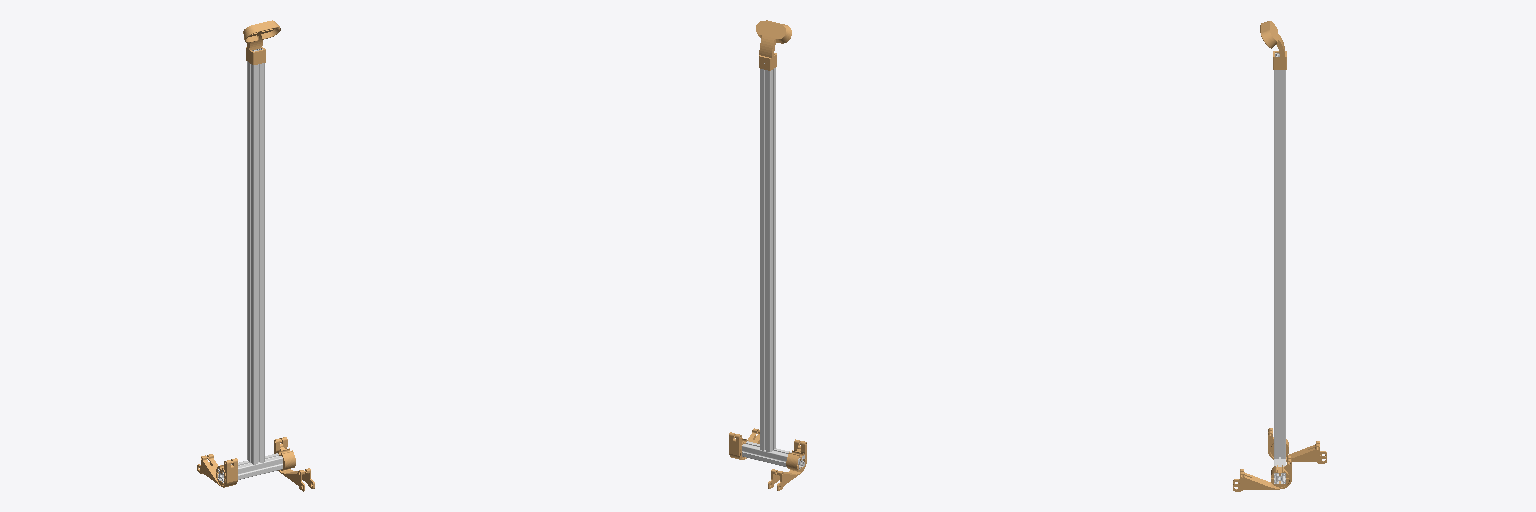
URDF robot description (bracketbot_v1_rev1):
<?xml version="1.0" ?>
<!-- Generated using onshape-to-robot -->
<!-- Onshape https://cad.onshape.com/documents/6e82ea959690d515a75aa9d5/w/3a22479ac51efe2ee6ec6cbf/e/449bb5f768d8a2b07e32509f -->
<robot name="bracketbot_v1_rev1">
  <!-- Link base_extrusion -->
  <link name="base_extrusion">
    <inertial>
      <origin xyz="5.0398e-16 0.01055 0.56913" rpy="0 0 0"/>
      <mass value="3.3473"/>
      <inertia ixx="0.73427" ixy="0.000803896" ixz="-2.92746e-16" iyy="0.739173" iyz="3.94633e-17" izz="0.00819634"/>
    </inertial>
    <!-- Part newsimplerhead -->
    <visual>
      <origin xyz="0 0.01055 0.02" rpy="1.98359e-16 1.98523e-23 6.31581e-23"/>
      <geometry>
        <mesh filename="package://assets/newsimplerhead.stl"/>
      </geometry>
      <material name="newsimplerhead_material">
        <color rgba="0.917647 0.72549 0.490196 1"/>
      </material>
    </visual>
    <collision>
      <origin xyz="0 0.01055 0.02" rpy="1.98359e-16 1.98523e-23 6.31581e-23"/>
      <geometry>
        <mesh filename="package://assets/newsimplerhead.stl"/>
      </geometry>
    </collision>
    <!-- Part base_extrusion -->
    <visual>
      <origin xyz="0 0.01055 0.02" rpy="1.98359e-16 1.98523e-23 6.31581e-23"/>
      <geometry>
        <mesh filename="package://assets/base_extrusion.stl"/>
      </geometry>
      <material name="base_extrusion_material">
        <color rgba="0.917647 0.917647 0.917647 1"/>
      </material>
    </visual>
    <collision>
      <origin xyz="0 0.01055 0.02" rpy="1.98359e-16 1.98523e-23 6.31581e-23"/>
      <geometry>
        <mesh filename="package://assets/base_extrusion.stl"/>
      </geometry>
    </collision>
    <!-- Part vert_extrusion_1 -->
    <visual>
      <origin xyz="0 0.01055 0.02" rpy="1.98359e-16 1.98523e-23 6.31581e-23"/>
      <geometry>
        <mesh filename="package://assets/vert_extrusion_1.stl"/>
      </geometry>
      <material name="vert_extrusion_1_material">
        <color rgba="0.917647 0.917647 0.917647 1"/>
      </material>
    </visual>
    <collision>
      <origin xyz="0 0.01055 0.02" rpy="1.98359e-16 1.98523e-23 6.31581e-23"/>
      <geometry>
        <mesh filename="package://assets/vert_extrusion_1.stl"/>
      </geometry>
    </collision>
    <!-- Part vert_extrusion_3 -->
    <visual>
      <origin xyz="0 0.01055 0.02" rpy="1.98359e-16 1.98523e-23 6.31581e-23"/>
      <geometry>
        <mesh filename="package://assets/vert_extrusion_3.stl"/>
      </geometry>
      <material name="vert_extrusion_3_material">
        <color rgba="0.917647 0.917647 0.917647 1"/>
      </material>
    </visual>
    <collision>
      <origin xyz="0 0.01055 0.02" rpy="1.98359e-16 1.98523e-23 6.31581e-23"/>
      <geometry>
        <mesh filename="package://assets/vert_extrusion_3.stl"/>
      </geometry>
    </collision>
    <!-- Part combined_wheelmount -->
    <visual>
      <origin xyz="0 0.01055 0.02" rpy="1.98359e-16 1.98523e-23 6.31581e-23"/>
      <geometry>
        <mesh filename="package://assets/combined_wheelmount.stl"/>
      </geometry>
      <material name="combined_wheelmount_material">
        <color rgba="0.917647 0.72549 0.490196 1"/>
      </material>
    </visual>
    <collision>
      <origin xyz="0 0.01055 0.02" rpy="1.98359e-16 1.98523e-23 6.31581e-23"/>
      <geometry>
        <mesh filename="package://assets/combined_wheelmount.stl"/>
      </geometry>
    </collision>
    <!-- Part vert_extrusion_4 -->
    <visual>
      <origin xyz="0 0.01055 0.02" rpy="1.98359e-16 1.98523e-23 6.31581e-23"/>
      <geometry>
        <mesh filename="package://assets/vert_extrusion_4.stl"/>
      </geometry>
      <material name="vert_extrusion_4_material">
        <color rgba="0.917647 0.917647 0.917647 1"/>
      </material>
    </visual>
    <collision>
      <origin xyz="0 0.01055 0.02" rpy="1.98359e-16 1.98523e-23 6.31581e-23"/>
      <geometry>
        <mesh filename="package://assets/vert_extrusion_4.stl"/>
      </geometry>
    </collision>
    <!-- Part part_70 -->
    <visual>
      <origin xyz="0 0.01055 0.02" rpy="1.98359e-16 1.98523e-23 6.31581e-23"/>
      <geometry>
        <mesh filename="package://assets/part_70.stl"/>
      </geometry>
      <material name="part_70_material">
        <color rgba="0.917647 0.72549 0.490196 1"/>
      </material>
    </visual>
    <collision>
      <origin xyz="0 0.01055 0.02" rpy="1.98359e-16 1.98523e-23 6.31581e-23"/>
      <geometry>
        <mesh filename="package://assets/part_70.stl"/>
      </geometry>
    </collision>
    <!-- Part vert_extrusion_2 -->
    <visual>
      <origin xyz="0 0.01055 0.02" rpy="1.98359e-16 1.98523e-23 6.31581e-23"/>
      <geometry>
        <mesh filename="package://assets/vert_extrusion_2.stl"/>
      </geometry>
      <material name="vert_extrusion_2_material">
        <color rgba="0.917647 0.917647 0.917647 1"/>
      </material>
    </visual>
    <collision>
      <origin xyz="0 0.01055 0.02" rpy="1.98359e-16 1.98523e-23 6.31581e-23"/>
      <geometry>
        <mesh filename="package://assets/vert_extrusion_2.stl"/>
      </geometry>
    </collision>
  </link>
  <!-- Frame depth (dummy link + fixed joint) -->
  <link name="depth">
    <origin xyz="0 0 0" rpy="0 -0 0"/>
    <inertial>
      <origin xyz="0 0 0" rpy="0 0 0"/>
      <mass value="1e-9"/>
      <inertia ixx="0" ixy="0" ixz="0" iyy="0" iyz="0" izz="0"/>
    </inertial>
  </link>
  <joint name="depth_frame" type="fixed">
    <origin xyz="0.033 -0.0208296 1.51466" rpy="-2.19911 9.27872e-17 -3.14159"/>
    <parent link="base_extrusion"/>
    <child link="depth"/>
    <axis xyz="0 0 0"/>
  </joint>
  <!-- Link composite_part_1 -->
  <link name="composite_part_1">
    <inertial>
      <origin xyz="1.48015e-05 2.13538e-05 0.0757492" rpy="0 0 0"/>
      <mass value="3.88752"/>
      <inertia ixx="0.0055964" ixy="-4.65272e-09" ixz="-2.58188e-07" iyy="0.00559573" iyz="4.47551e-06" izz="0.00870403"/>
    </inertial>
    <!-- Part composite_part_1 -->
    <visual>
      <origin xyz="2.89335e-18 0 -0.0023" rpy="1.5708 -0 0"/>
      <geometry>
        <mesh filename="package://assets/composite_part_1.stl"/>
      </geometry>
      <material name="composite_part_1_material">
        <color rgba="0.917647 0.917647 0.917647 1"/>
      </material>
    </visual>
    <collision>
      <origin xyz="2.89335e-18 0 -0.0023" rpy="1.5708 -0 0"/>
      <geometry>
        <mesh filename="package://assets/composite_part_1.stl"/>
      </geometry>
    </collision>
  </link>
  <!-- Joint from base_extrusion to composite_part_1 -->
  <joint name="drive_right" type="continuous">
    <origin xyz="-0.0853 0.01055 0.0468695" rpy="1.5708 -6.27014e-08 -1.5708"/>
    <parent link="base_extrusion"/>
    <child link="composite_part_1"/>
    <axis xyz="0 0 1"/>
    <limit effort="10" velocity="10" lower="-3.141592653589793" upper="3.141592653589793"/>
  </joint>
  <!-- Link composite_part_1_2 -->
  <link name="composite_part_1_2">
    <inertial>
      <origin xyz="1.48015e-05 2.13538e-05 0.0757492" rpy="0 0 0"/>
      <mass value="3.88752"/>
      <inertia ixx="0.0055964" ixy="-4.65272e-09" ixz="-2.58188e-07" iyy="0.00559573" iyz="4.47551e-06" izz="0.00870403"/>
    </inertial>
    <!-- Part composite_part_1_2 -->
    <visual>
      <origin xyz="1.2908e-18 6.93889e-18 -0.0023" rpy="1.5708 -0 0"/>
      <geometry>
        <mesh filename="package://assets/composite_part_1.stl"/>
      </geometry>
      <material name="composite_part_1_2_material">
        <color rgba="0.917647 0.917647 0.917647 1"/>
      </material>
    </visual>
    <collision>
      <origin xyz="1.2908e-18 6.93889e-18 -0.0023" rpy="1.5708 -0 0"/>
      <geometry>
        <mesh filename="package://assets/composite_part_1.stl"/>
      </geometry>
    </collision>
  </link>
  <!-- Joint from base_extrusion to composite_part_1_2 -->
  <joint name="drive_left" type="continuous">
    <origin xyz="0.0853 0.01055 0.0468695" rpy="1.5708 9.77997e-17 1.5708"/>
    <parent link="base_extrusion"/>
    <child link="composite_part_1_2"/>
    <axis xyz="0 0 1"/>
    <limit effort="10" velocity="10" lower="-3.141592653589793" upper="3.141592653589793"/>
  </joint>
</robot>

--- What the picture shows (computed from the rendered views, not written in the file) ---
Views: 3 orthographic renders of the robot side by side, from view 1: azimuth 30°, elevation 25°; view 2: azimuth 150°, elevation 25°; view 3: azimuth 270°, elevation 25°.
Robot: bracketbot_v1_rev1 — 4 links, 3 joints (2 continuous, 1 fixed); root link base_extrusion; default pose: every joint at zero.
Visible links, largest first — view 1: base_extrusion; view 2: base_extrusion; view 3: base_extrusion.
Link boxes in pixels (box(x1,y1,x2,y2)): base_extrusion: box(197, 20, 314, 491); base_extrusion: box(729, 20, 806, 490); base_extrusion: box(1233, 21, 1326, 491).
Bounding box of the posed robot: 0.252 × 0.296 × 1.57 m (x, y, z).
8 mesh visuals loaded from 9 distinct referenced files (8 binary STL); not drawn: 2 (reference not matched to a file when rendering).
